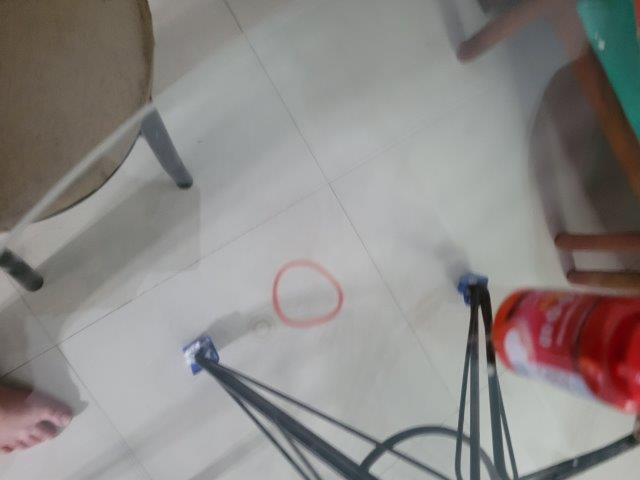karet: (271, 260, 345, 331)
